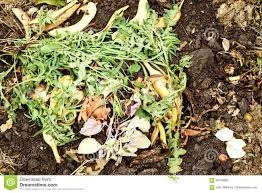kitchen_waste: (16, 27, 177, 85), (8, 88, 72, 164), (46, 1, 102, 41), (165, 104, 186, 173), (146, 66, 176, 102), (77, 93, 112, 121), (13, 5, 35, 44), (128, 1, 153, 28), (152, 114, 167, 146)
paper: (123, 118, 155, 151), (222, 136, 250, 160), (76, 135, 103, 156), (121, 93, 143, 115), (78, 116, 102, 136), (212, 126, 238, 141)
